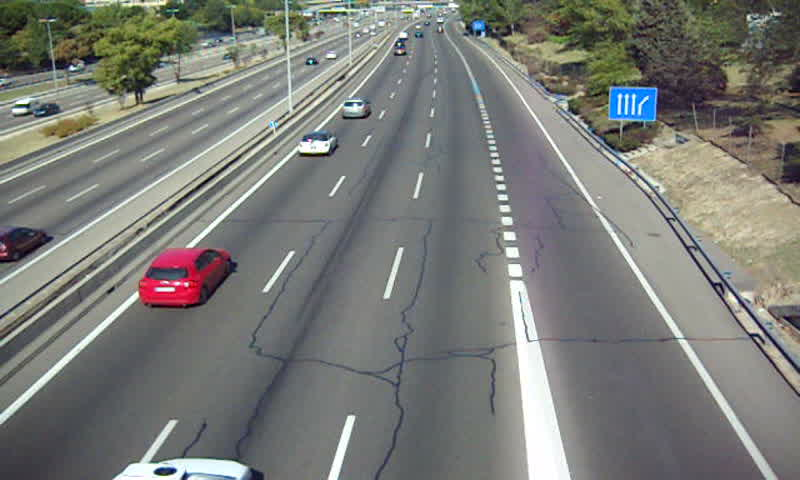car: (138, 248, 231, 305), (298, 133, 337, 156), (341, 98, 371, 119)
